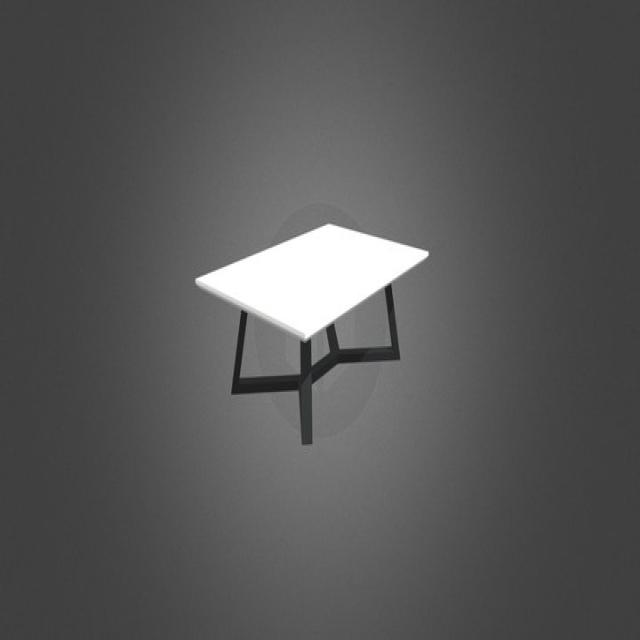table: (195, 220, 431, 447)
